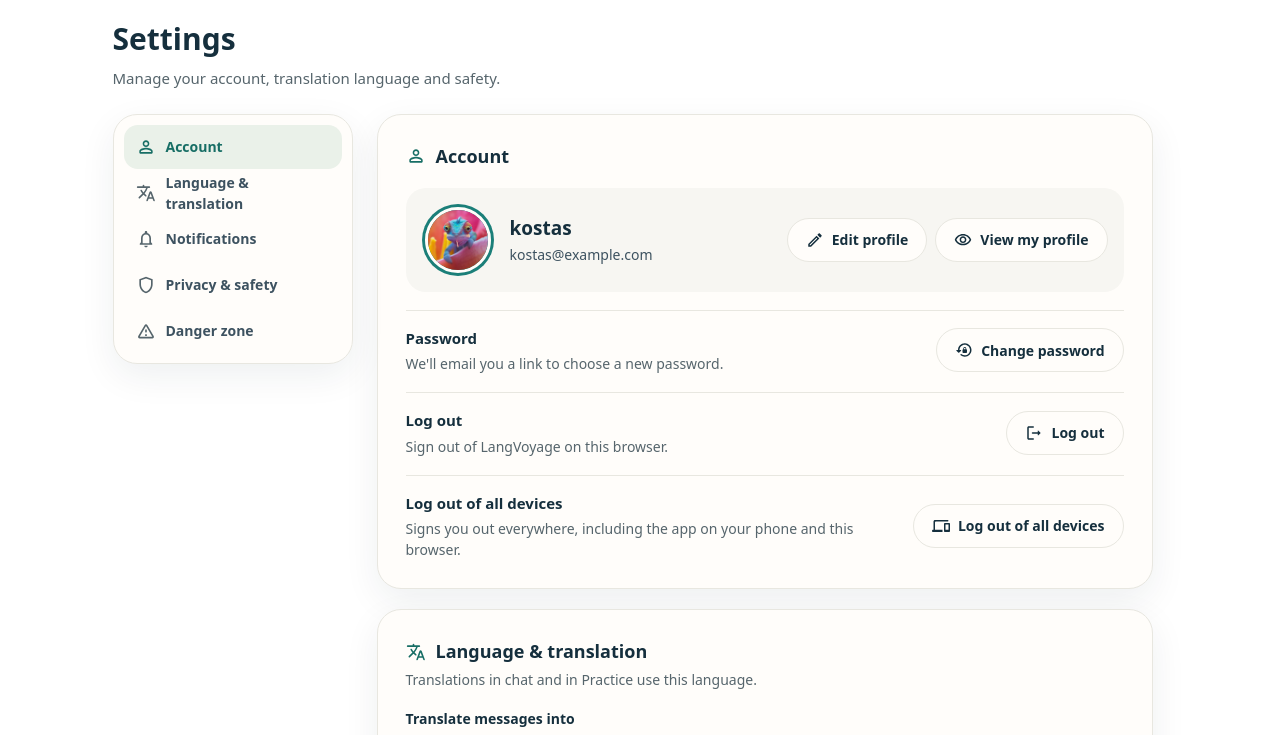
SettingsPage › change password asks first, then sends the reset link to the account email
Click the button "Change password".
click(1030, 350)  # box [936,328,1124,372]
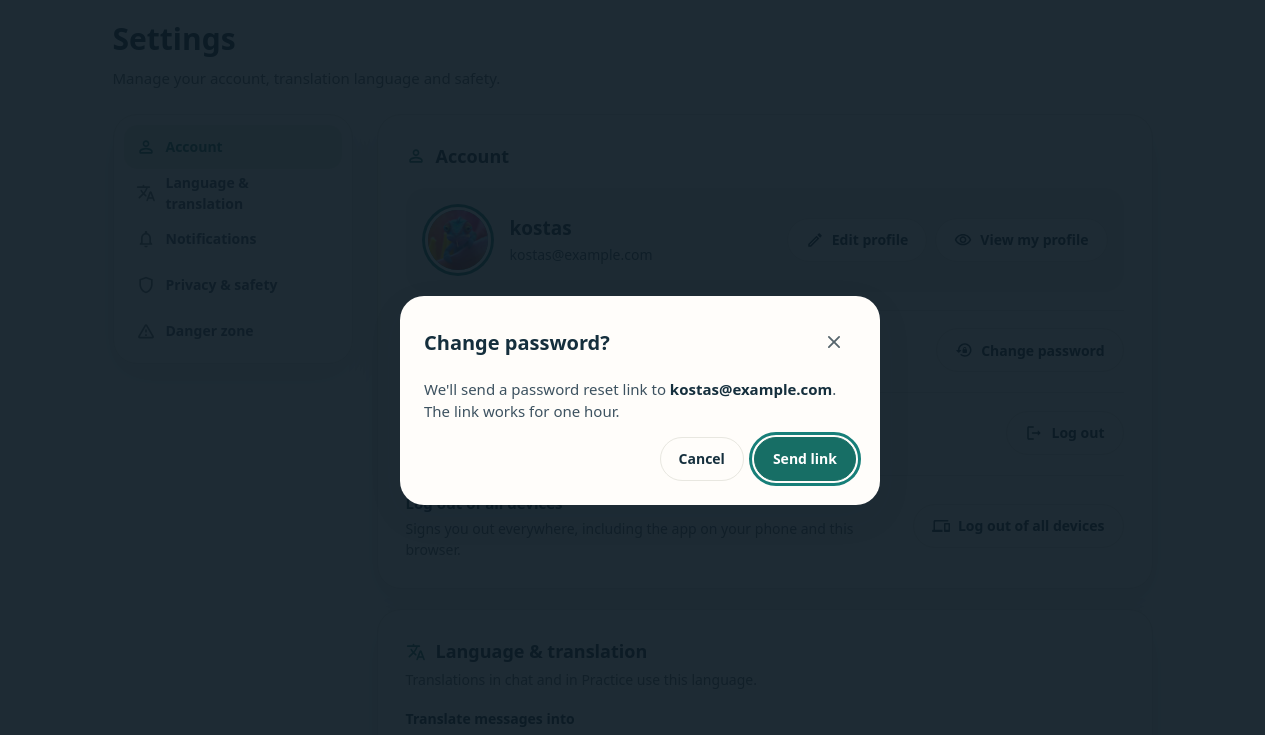
Click the button "Send link".
click(805, 458)  # box [754,436,856,480]
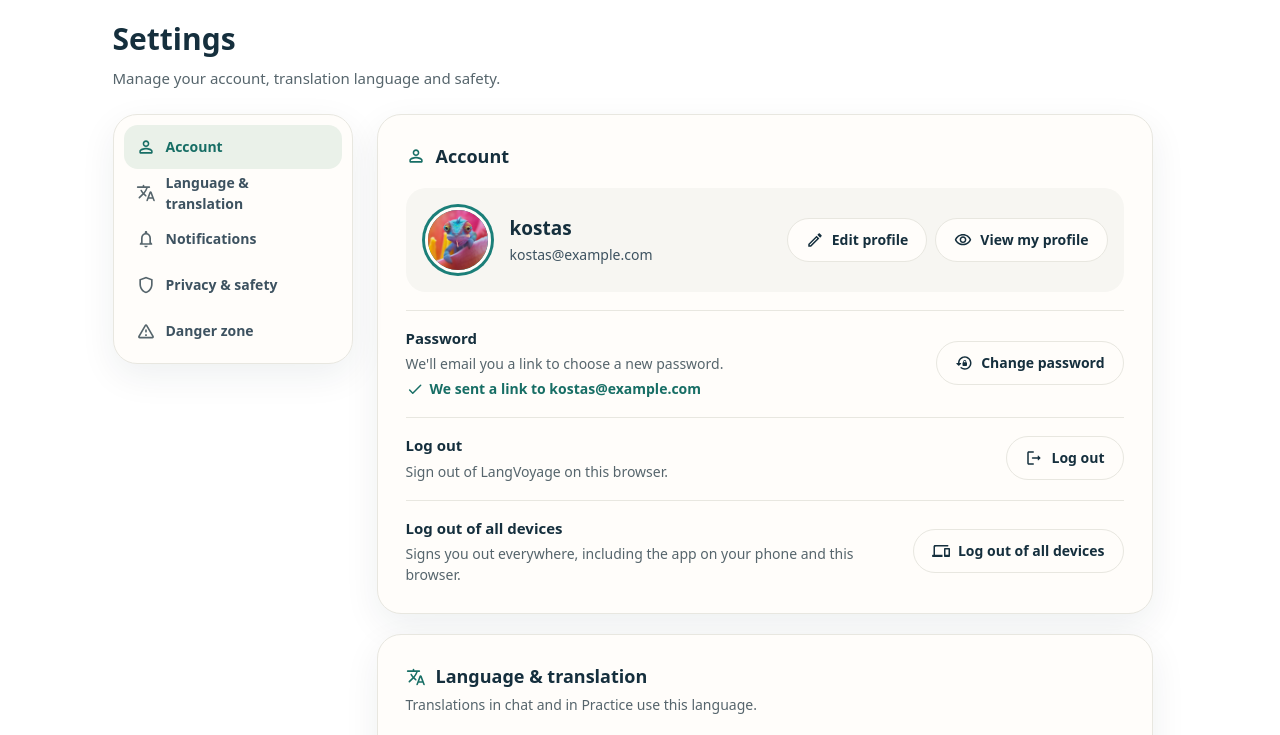
Expected: the text "We sent a link to kostas@example.com" is shown, [406,379,701,398]
Expected: the dialog is gone
